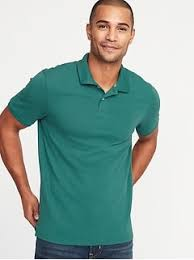S_polo shirt: (7, 60, 161, 247)
